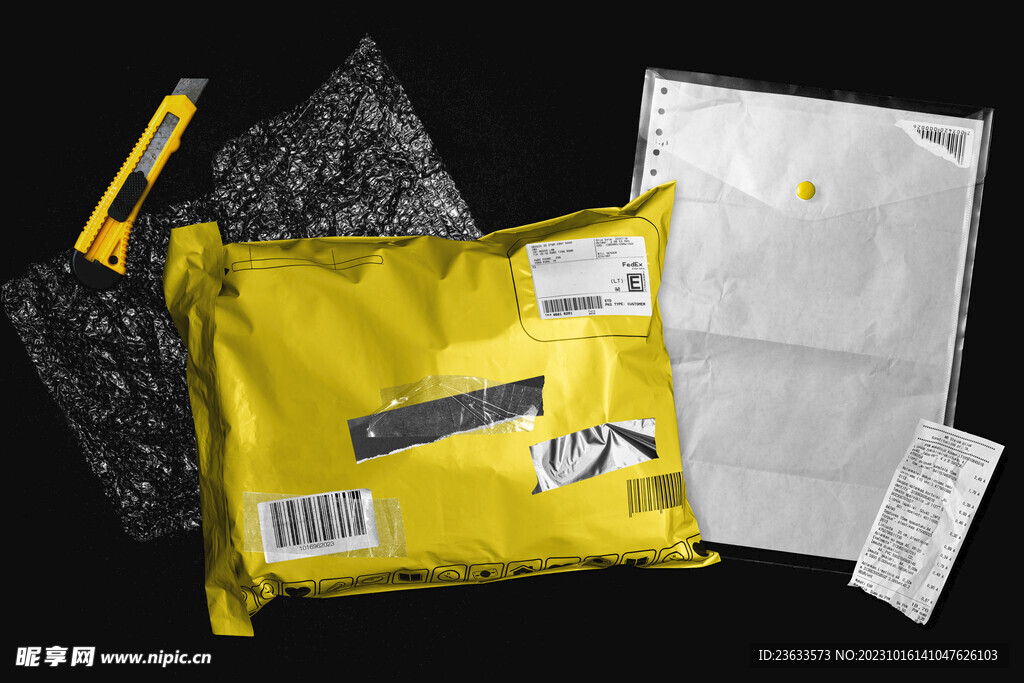塑料袋: (0, 39, 483, 539), (165, 209, 717, 626), (632, 69, 990, 571)
